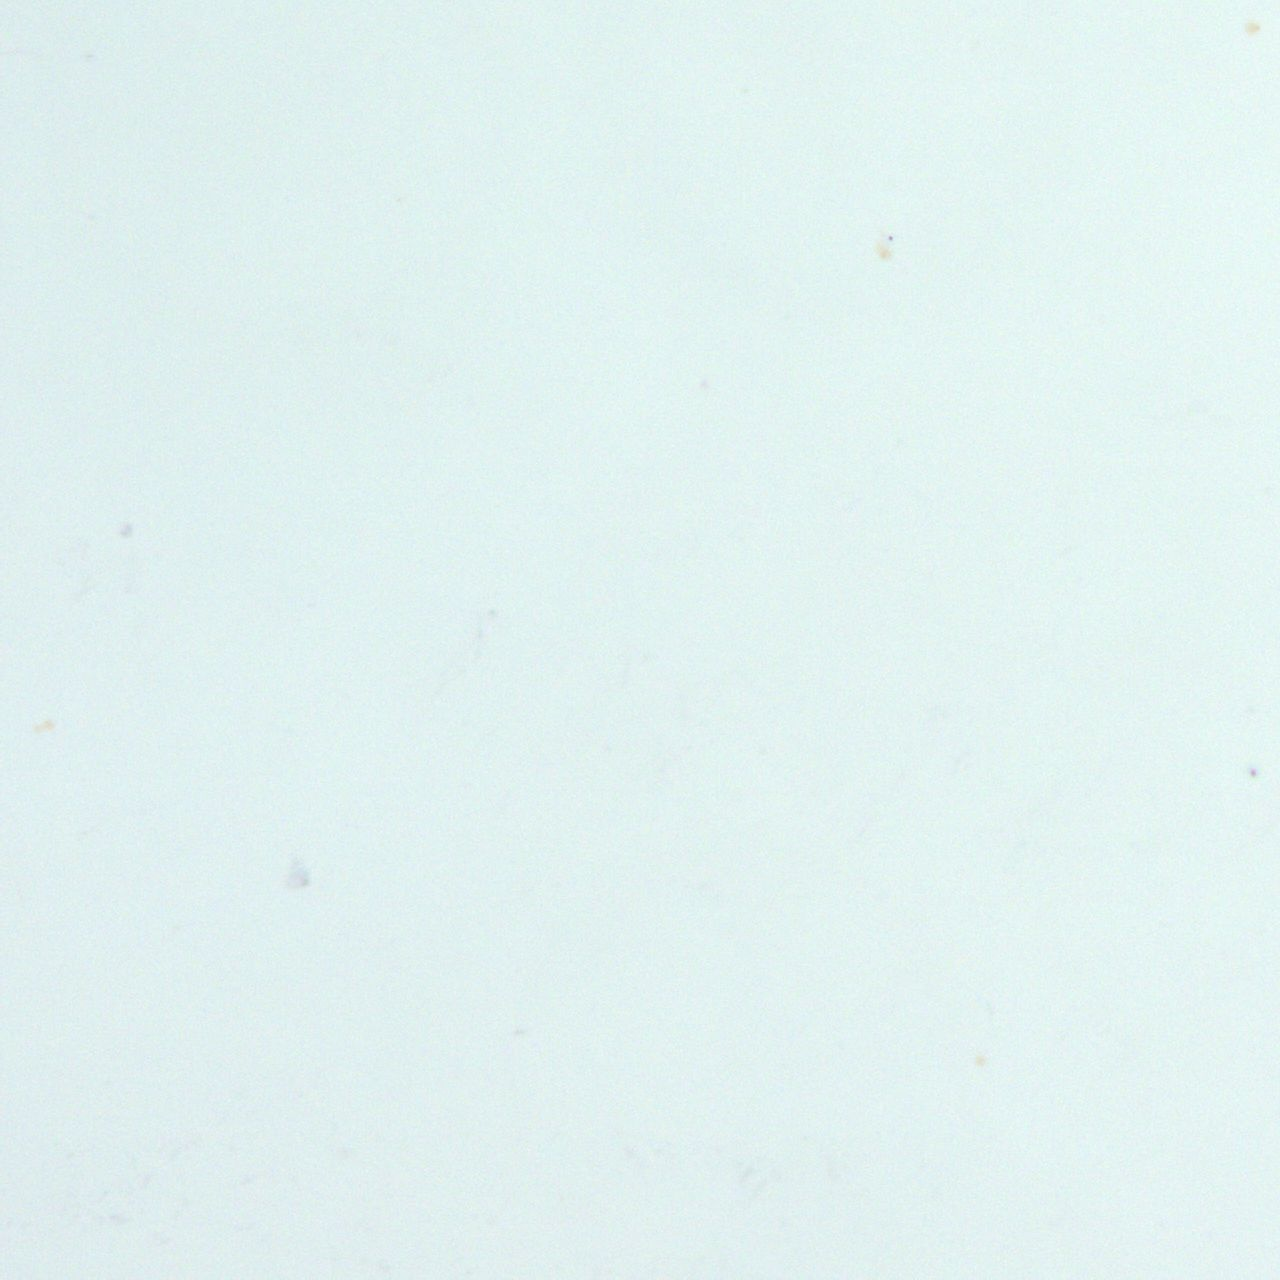nucleus-HE: (32, 721, 54, 732), (877, 246, 892, 260), (1246, 23, 1260, 32), (975, 1056, 985, 1066)
